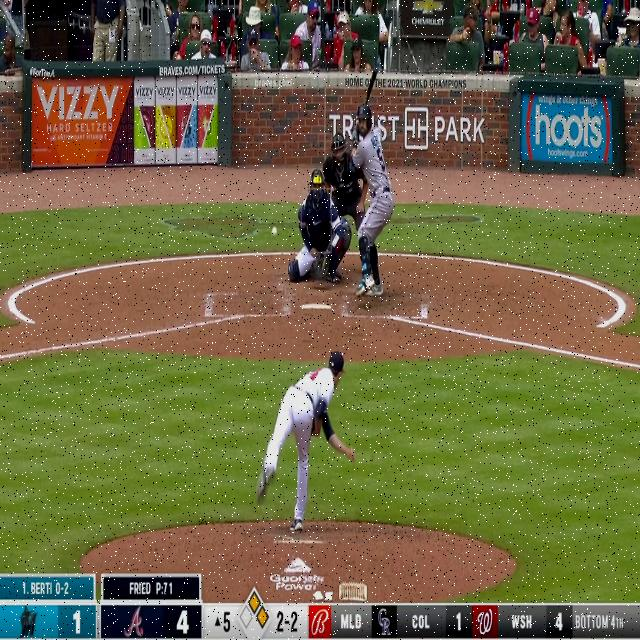baseball: (271, 226, 277, 237)
